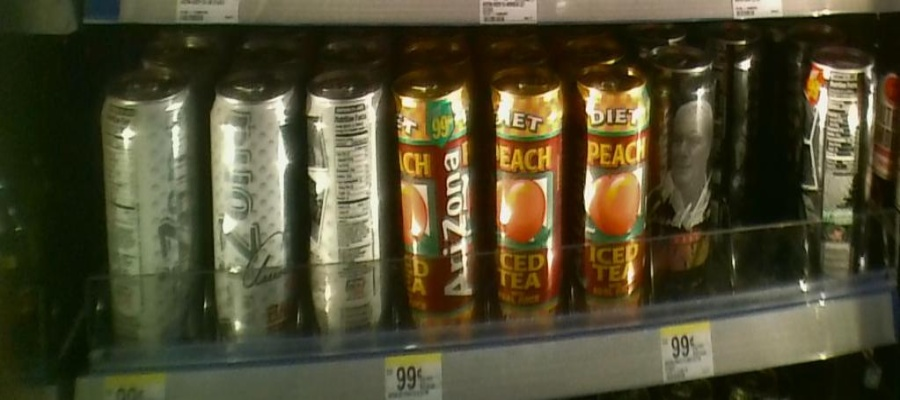bottle: (96, 66, 205, 360), (388, 60, 484, 354), (208, 66, 302, 366), (305, 73, 387, 357), (486, 49, 566, 336), (568, 47, 647, 322), (799, 39, 878, 285), (651, 37, 712, 292), (717, 29, 758, 198)
